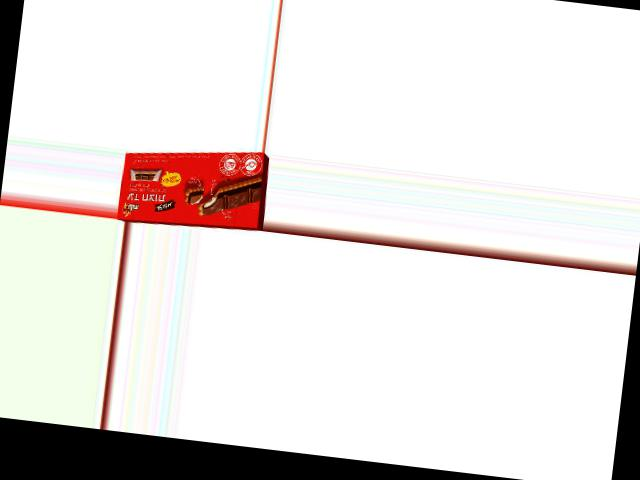chocolate: (116, 144, 269, 231)
